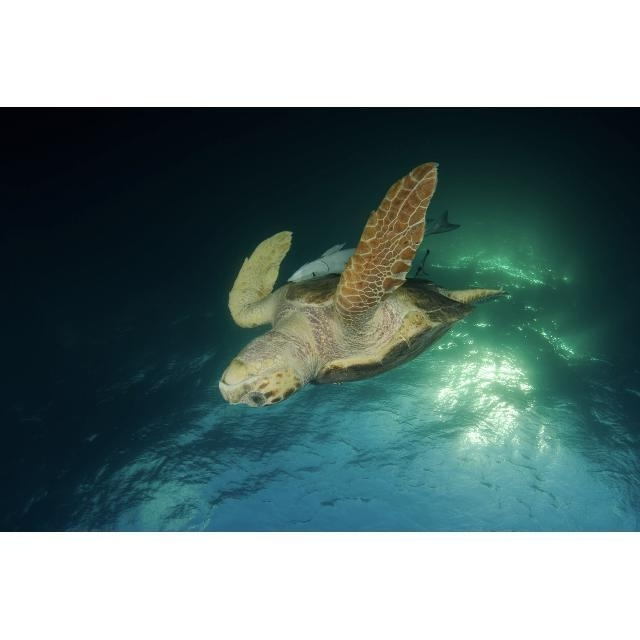turtle: (217, 160, 509, 407)
